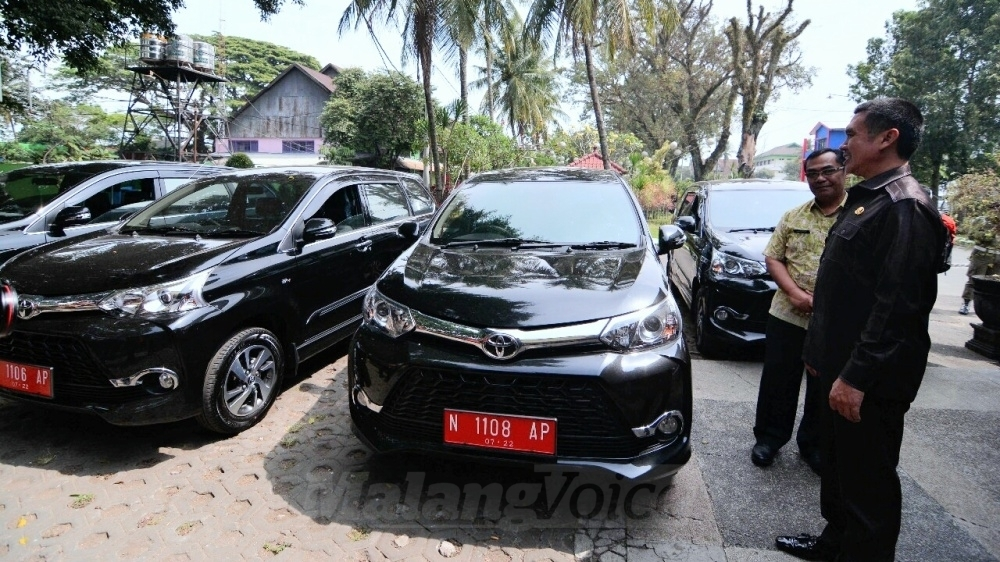plate: (445, 407, 553, 456), (1, 362, 54, 393)
